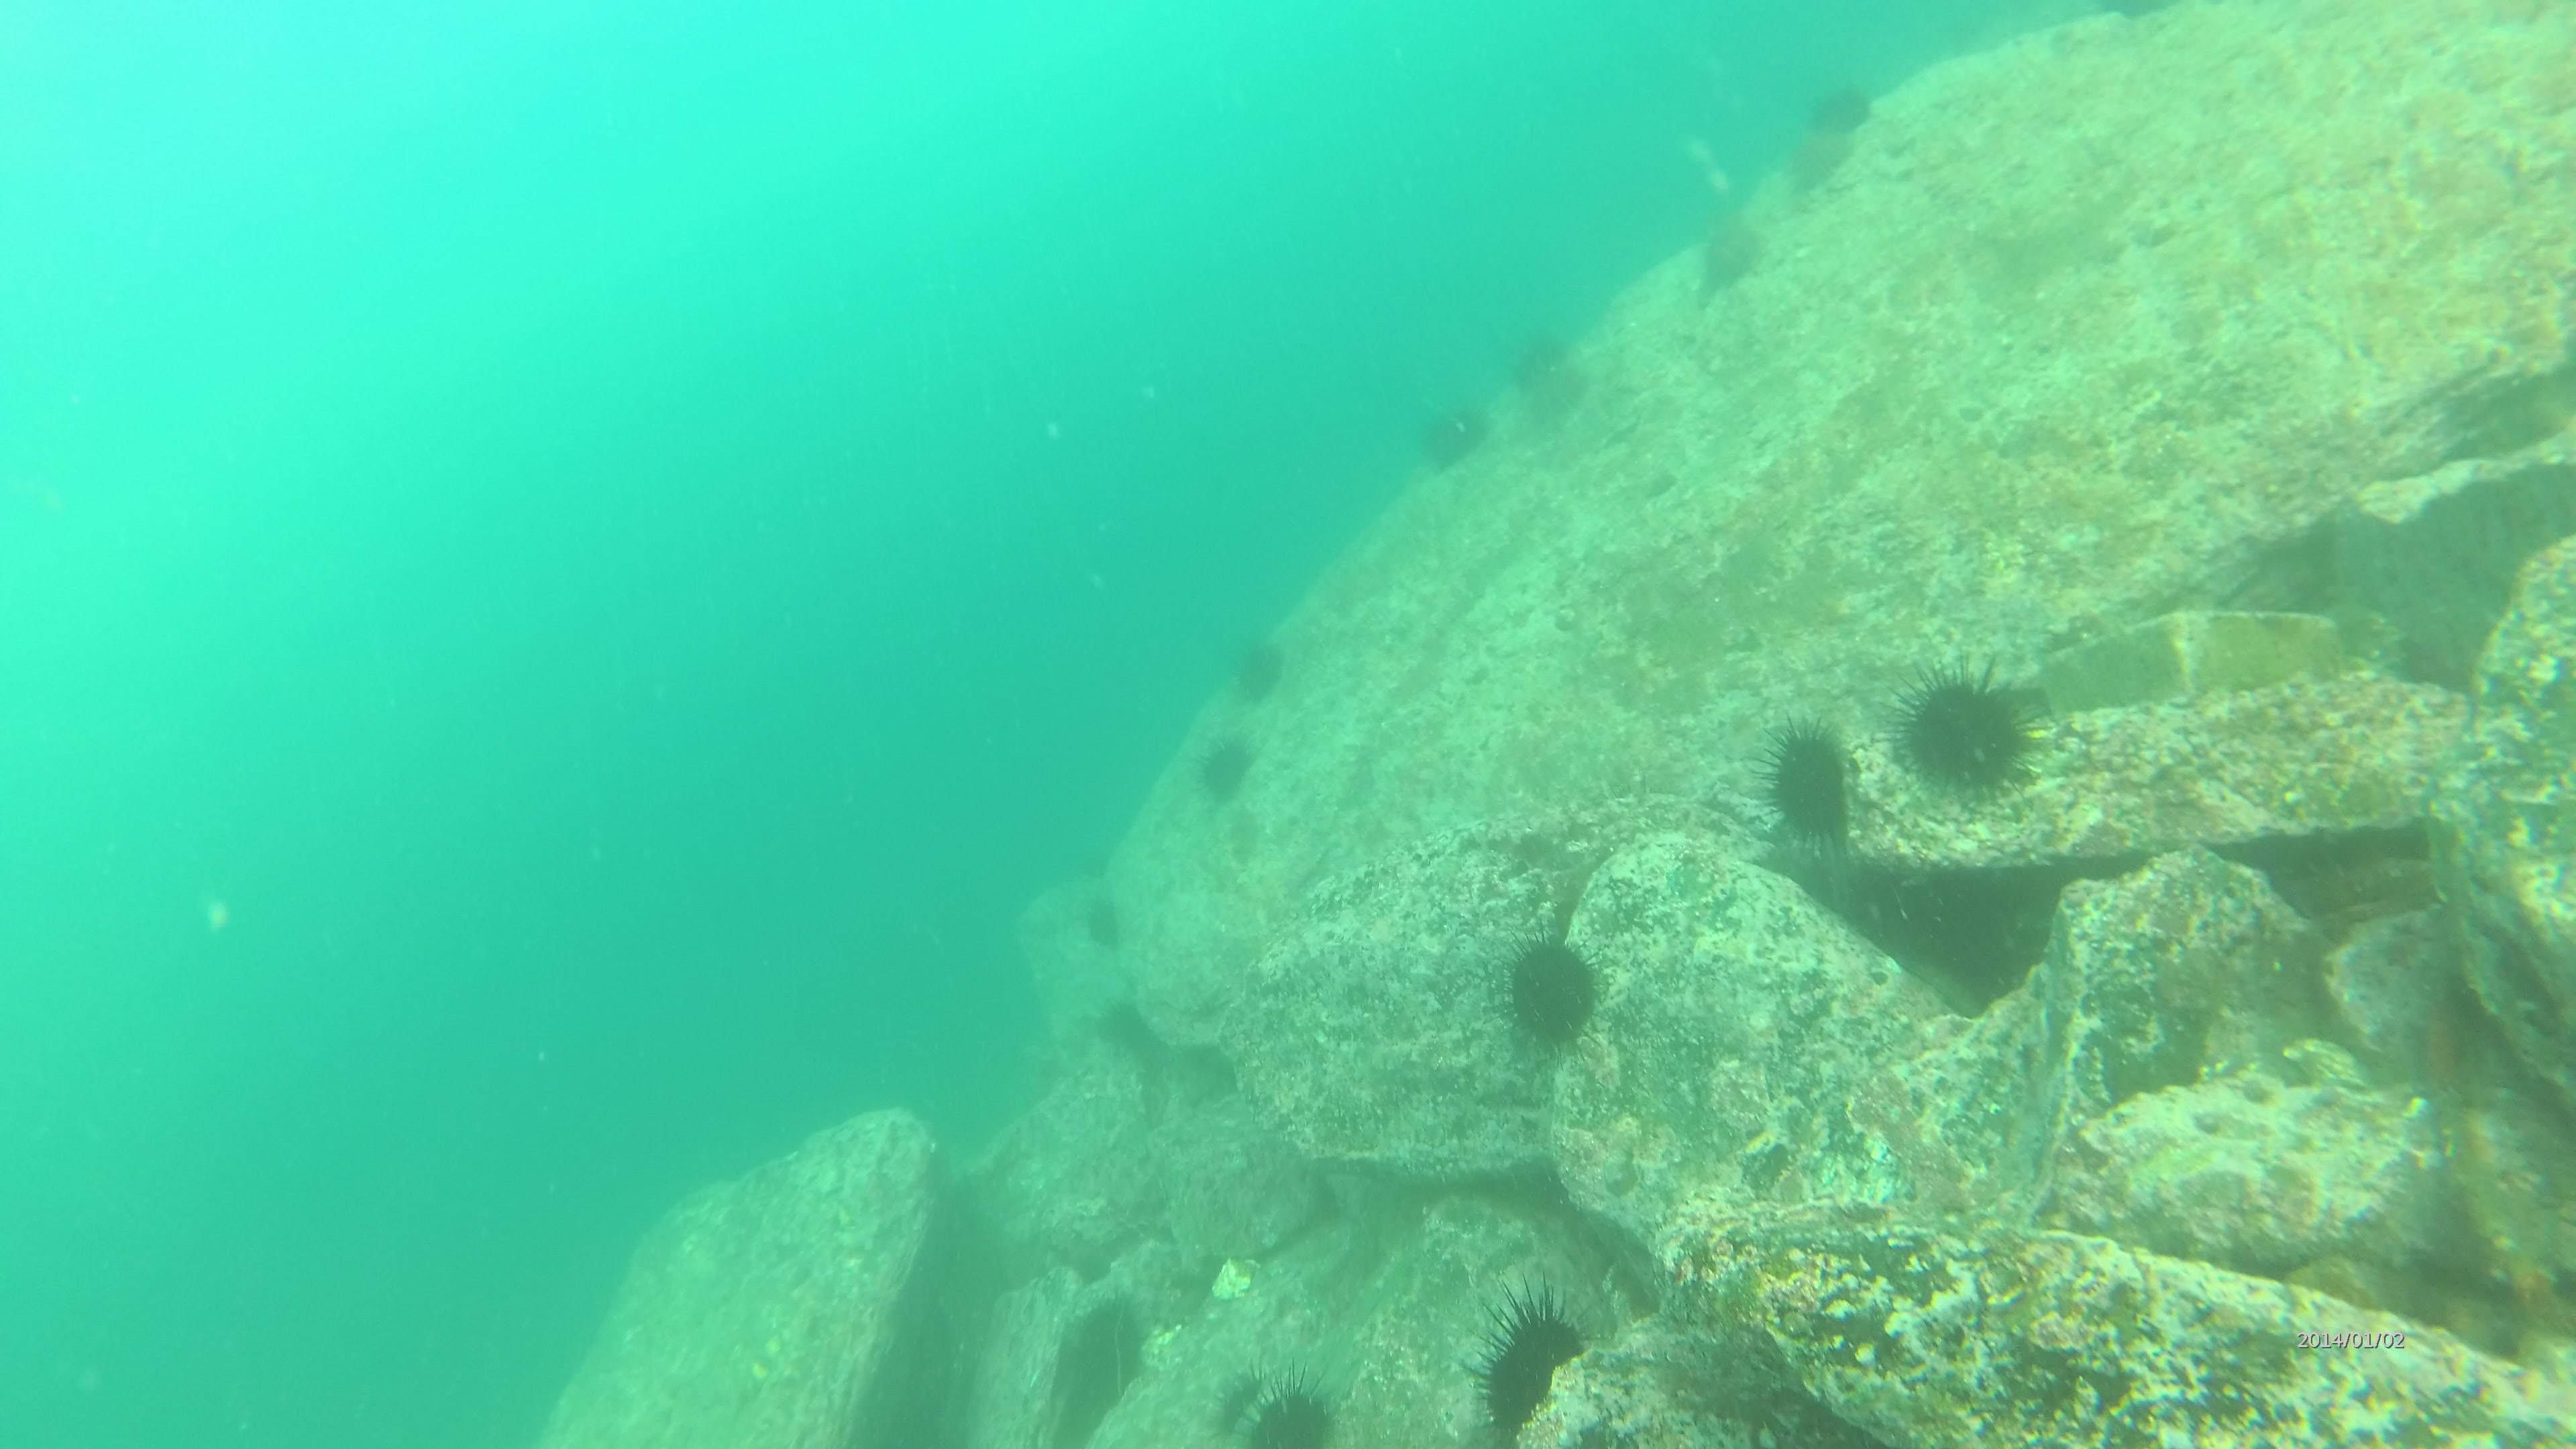echinus: (1874, 665, 2042, 801), (1460, 1283, 1591, 1445), (1490, 927, 1612, 1060), (1753, 717, 1865, 858), (1226, 1366, 1338, 1449), (1697, 219, 1760, 295), (1782, 126, 1849, 195), (1500, 331, 1573, 393), (1192, 736, 1258, 801), (1424, 402, 1491, 465), (1226, 637, 1286, 695), (1813, 88, 1879, 131), (1079, 897, 1125, 950)
